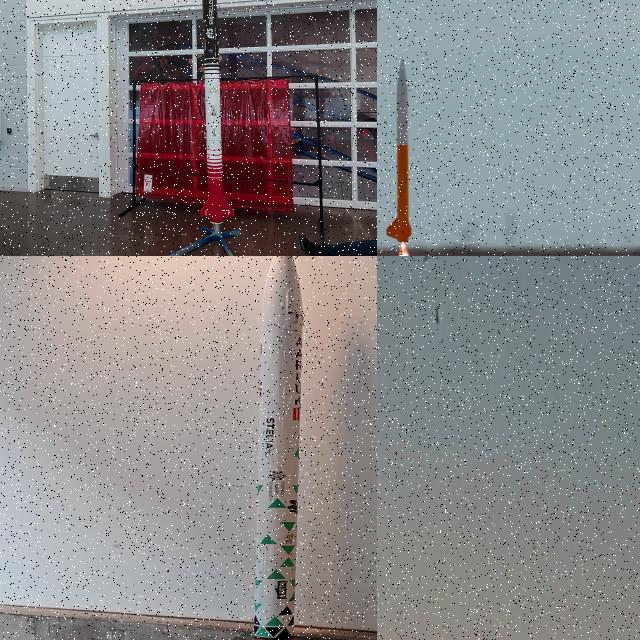Rocket: (253, 256, 303, 640), (200, 0, 234, 223), (384, 57, 414, 244), (435, 301, 440, 325)
